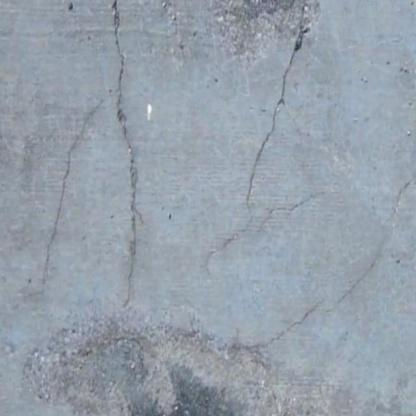Cracks: (212, 148, 416, 365), (28, 0, 149, 317), (204, 0, 317, 269), (0, 196, 5, 229)
